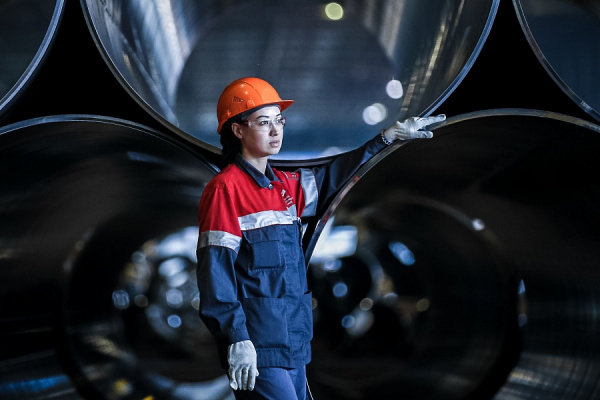person: (195, 77, 446, 400)
